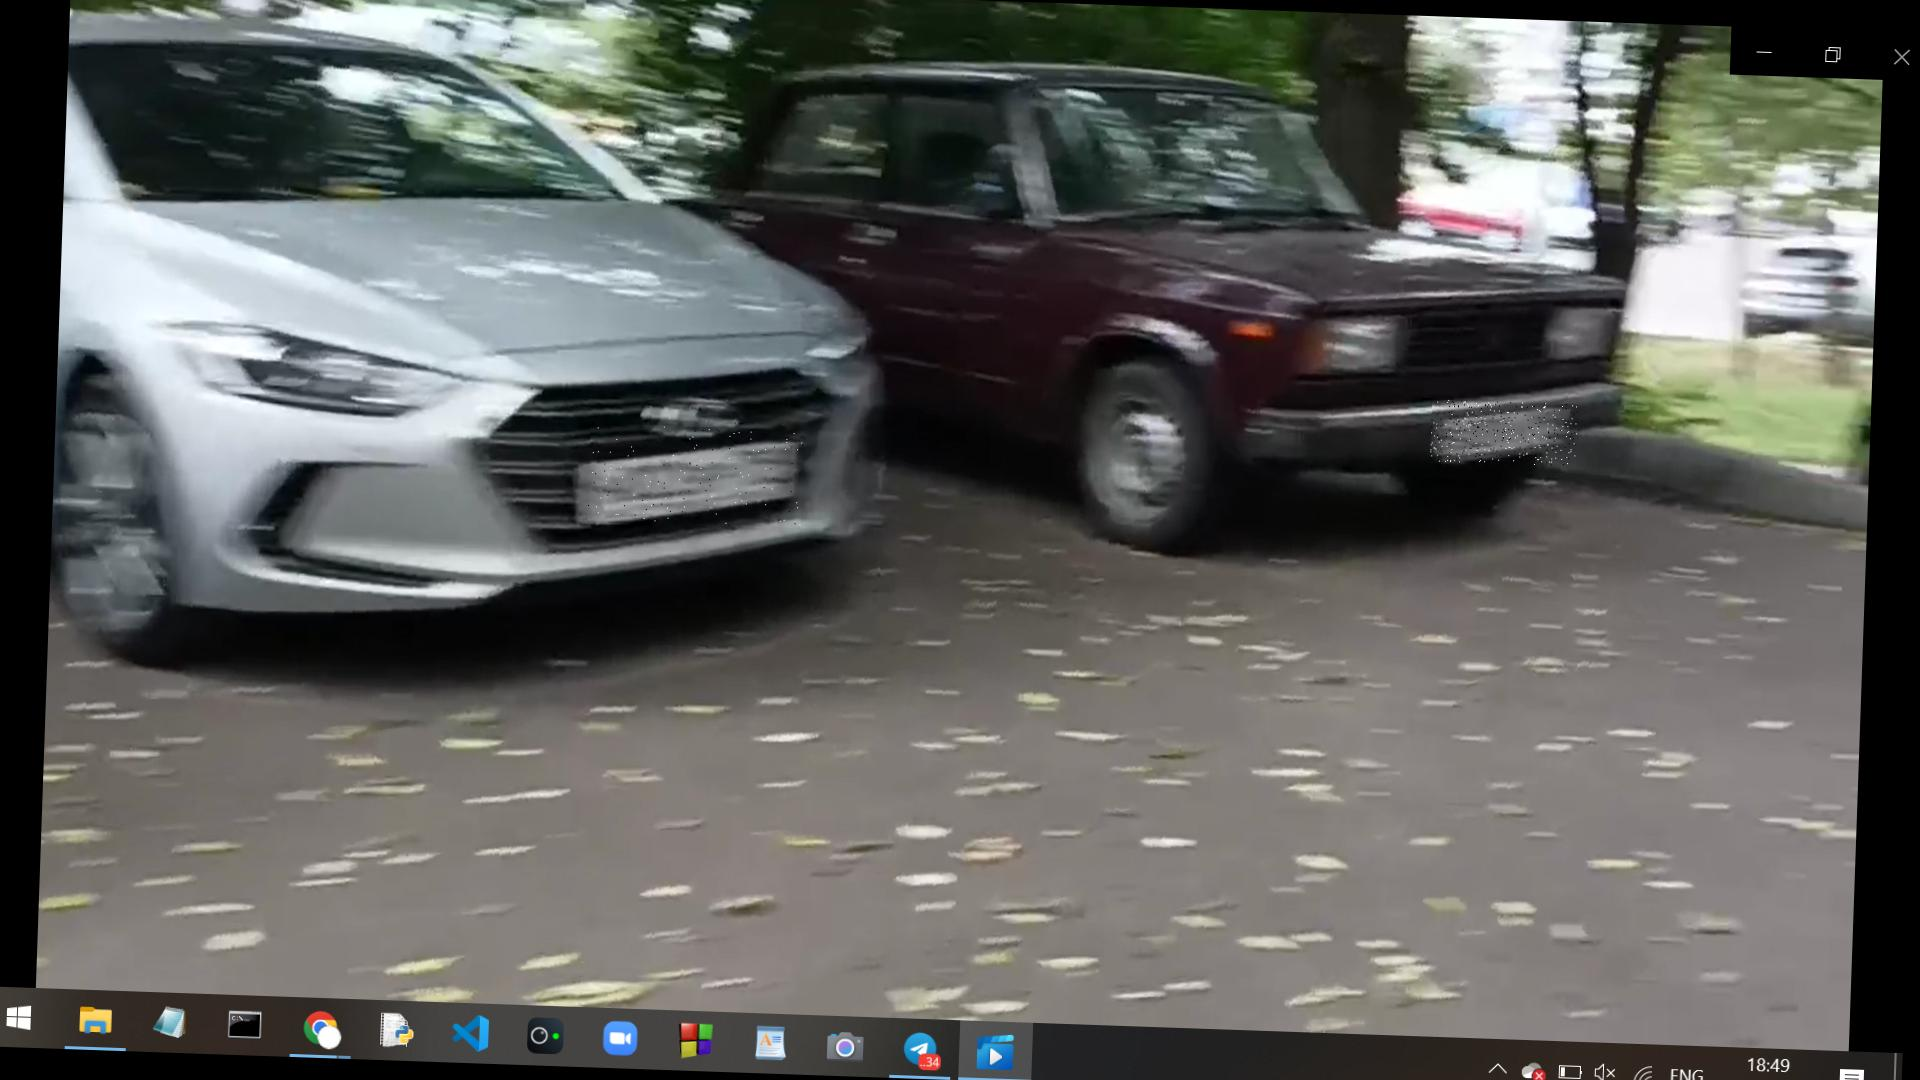plate: (590, 425, 806, 531), (1432, 401, 1580, 468)
